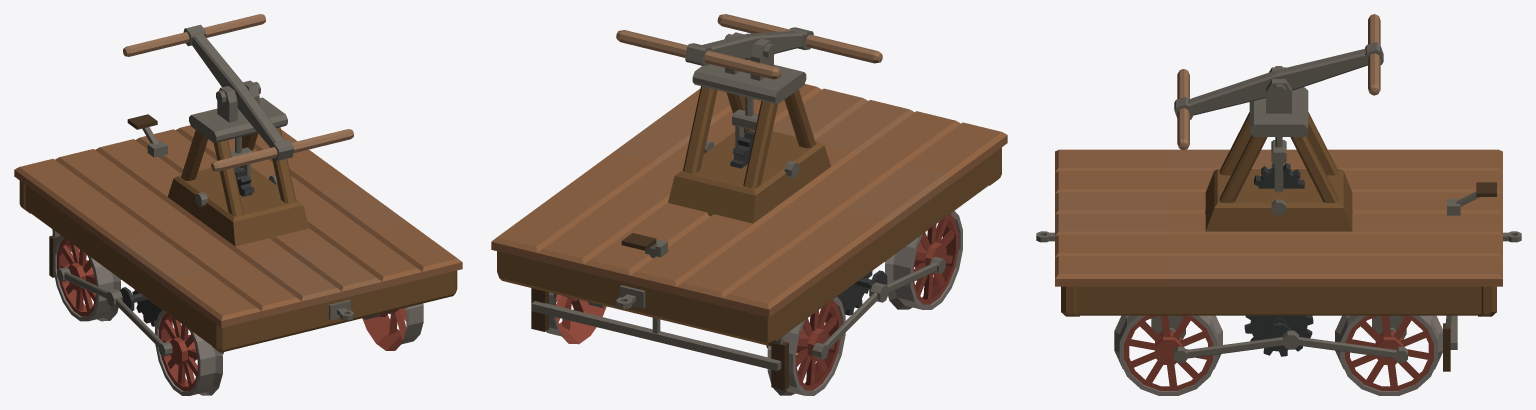
Rendered from handcar-3e4083.glb.
3 views of the same model, side by side, from view 1: azimuth 30°, elevation 25°; view 2: azimuth 150°, elevation 25°; view 3: azimuth 270°, elevation 25° (orthographic). The views are drawn at different scales.
Parts seen in each view (by area): view 1: handcar-body, beam-mesh, wheel-1-set, wheel-2-set, coupling-rods, jackshaft-gears; view 2: handcar-body, beam-mesh, wheel-2-set, wheel-1-set, coupling-rods, jackshaft-gears; view 3: handcar-body, beam-mesh, wheel-1-set, wheel-2-set, coupling-rods, jackshaft-gears.
Boxes of the visible parts, <box> form: handcar-body: <box>14,80,462,354</box>; beam-mesh: <box>123,14,353,171</box>; wheel-1-set: <box>155,303,423,395</box>; wheel-2-set: <box>53,235,120,321</box>; coupling-rods: <box>57,267,172,356</box>; jackshaft-gears: <box>120,287,162,326</box>; handcar-body: <box>491,32,1007,390</box>; beam-mesh: <box>616,14,882,79</box>; wheel-2-set: <box>546,292,845,395</box>; wheel-1-set: <box>885,211,962,309</box>; coupling-rods: <box>812,257,945,359</box>; jackshaft-gears: <box>837,270,887,315</box>; handcar-body: <box>1036,66,1521,371</box>; beam-mesh: <box>1174,14,1383,150</box>; wheel-1-set: <box>1114,315,1222,395</box>; wheel-2-set: <box>1335,315,1442,395</box>; coupling-rods: <box>1174,330,1407,362</box>; jackshaft-gears: <box>1244,315,1313,356</box>.
Size of the model in its own units: 1.78 by 1.89 by 2.81.
